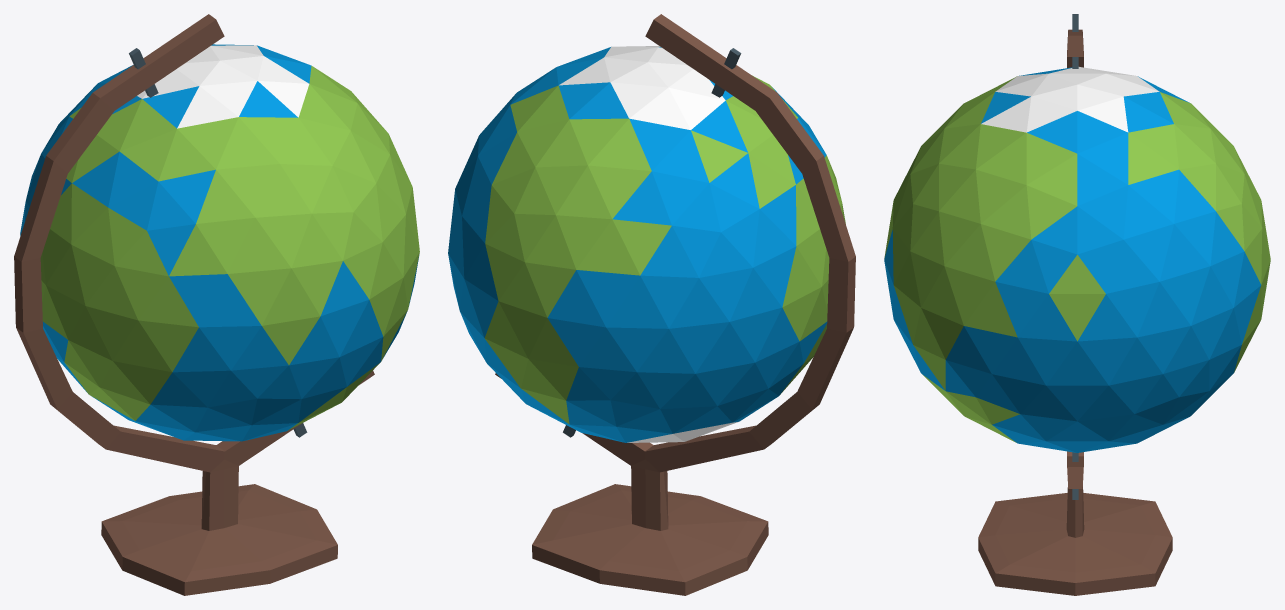
Rendered from Globe.glb.
The picture shows the model from 3 angles, left to right: view 1: azimuth 30°, elevation 25°; view 2: azimuth 150°, elevation 25°; view 3: azimuth 270°, elevation 25°; orthographic projection. The views are drawn at different scales.
Parts seen in each view (by area): view 1: globe_Circle.013; view 2: globe_Circle.013; view 3: globe_Circle.013.
Part boxes in pixels (x1,y1,x2,y2): globe_Circle.013: (14,14,419,595); globe_Circle.013: (448,14,855,595); globe_Circle.013: (884,14,1270,595).
Bounding box in the file's own units: 7.42 × 10 × 6.85.
